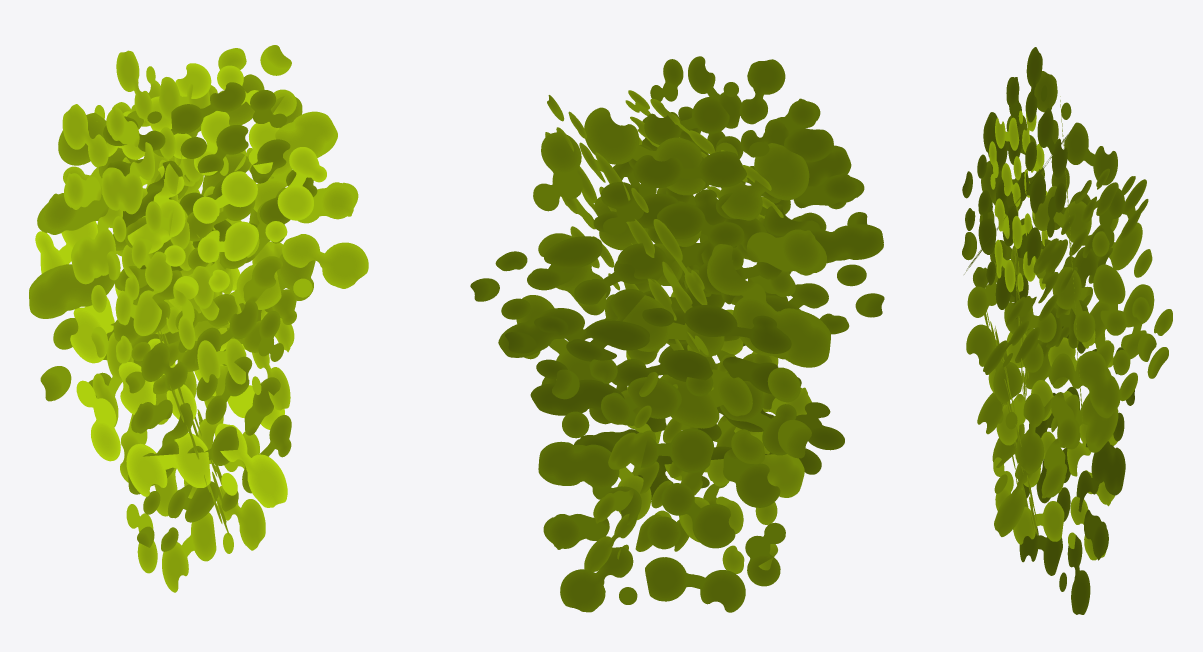
File: shrub_small_01.fbx
3 views of the same model, side by side, from view 1: azimuth 30°, elevation 25°; view 2: azimuth 150°, elevation 25°; view 3: azimuth 270°, elevation 25° (orthographic). The views are drawn at different scales.
Visible parts, largest first — view 1: shrub_small_01; view 2: shrub_small_01; view 3: shrub_small_01.
Boxes of the visible parts, x1,y1,x2,y2 form: shrub_small_01: (29,45,368,592); shrub_small_01: (470,56,884,612); shrub_small_01: (962,47,1172,614).
Size of the model in its own units: 685 by 485 by 1127.
